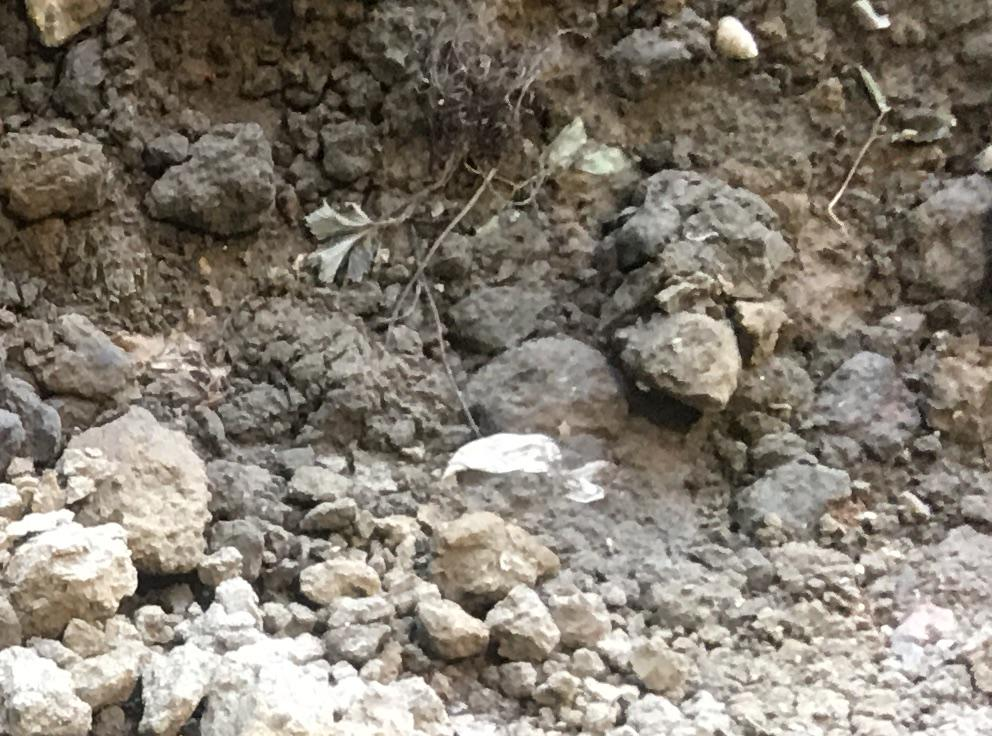block: (59, 412, 212, 576), (147, 120, 279, 235), (7, 523, 145, 630), (618, 307, 747, 415), (1, 128, 122, 219)
